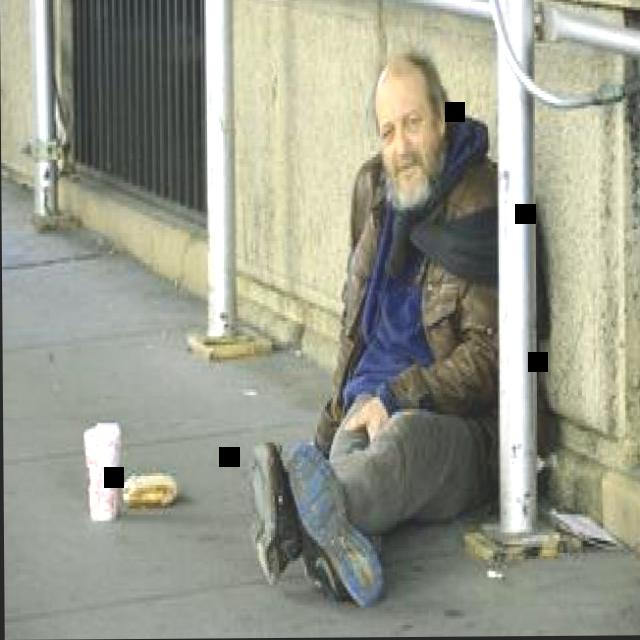Fall-Detected: (238, 29, 535, 600)
